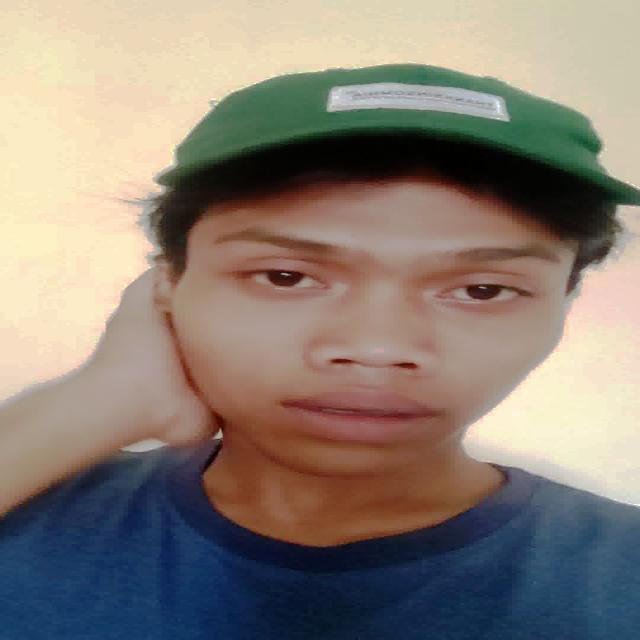TOPI: (134, 48, 640, 219)
